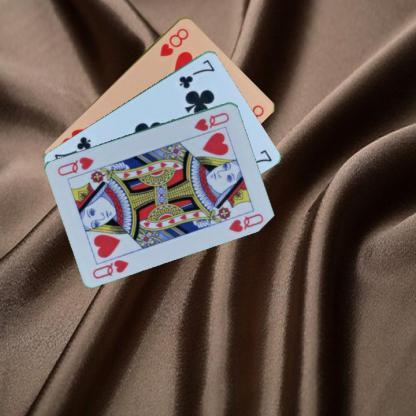7c: (176, 56, 216, 90)
8h: (157, 25, 190, 58)
Qh: (90, 256, 130, 280), (191, 110, 231, 132)
